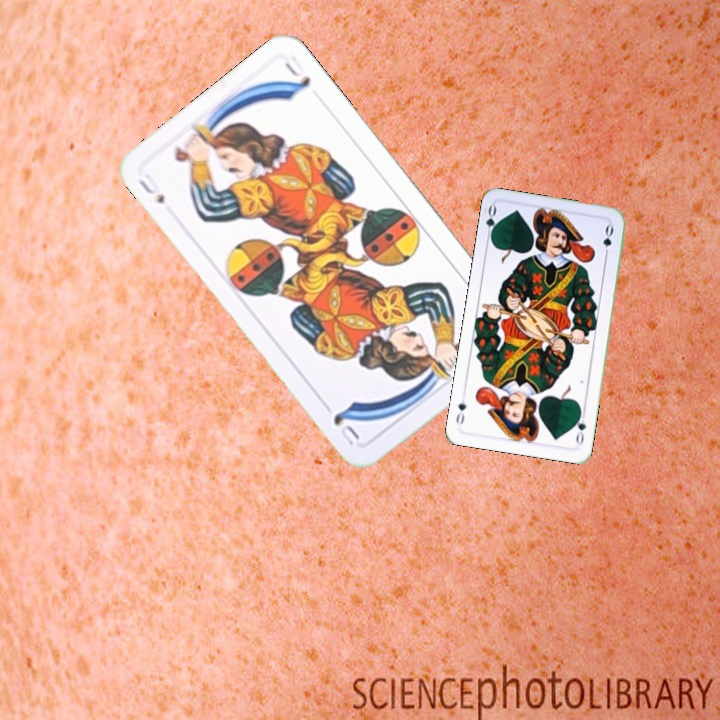GO: (482, 202, 501, 243), (571, 407, 589, 447)
SU: (134, 171, 168, 206)
